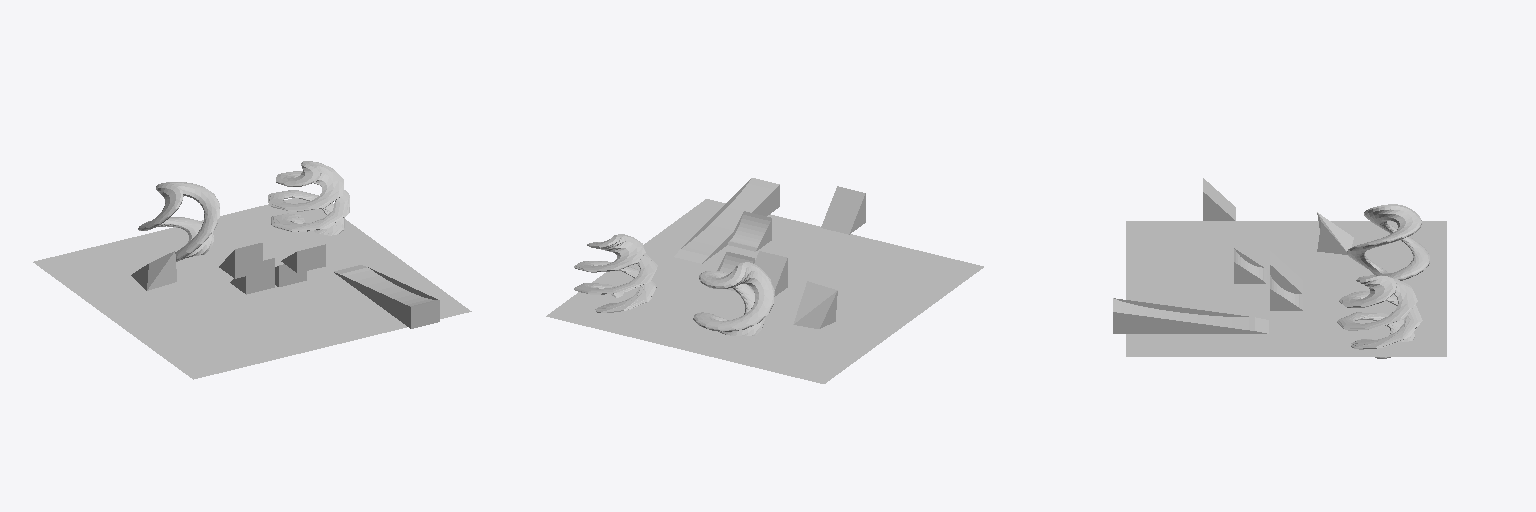
The model's file is RampPlayground.obj.
3 views of the same model, side by side, from view 1: azimuth 30°, elevation 25°; view 2: azimuth 150°, elevation 25°; view 3: azimuth 270°, elevation 25° (orthographic).
Parts seen in each view (by area): view 1: Plane, Torus.001, Cube.004, Torus, Cube.005, Cube.003, Cube, Cube.002; view 2: Plane, Torus.001, Torus, Cube.004, Cube.003, Cube.005, Cube.002, Cube; view 3: Plane, Cube.004, Torus.001, Torus, Cube.005, Cube.003, Cube.001, Cube.002, Cube.
Boxes of the visible parts, x1=… form: Plane: x1=33, y1=198, x2=471, y2=379; Torus.001: x1=268, y1=161, x2=349, y2=235; Cube.004: x1=334, y1=265, x2=439, y2=328; Torus: x1=138, y1=182, x2=219, y2=261; Cube.005: x1=131, y1=251, x2=176, y2=290; Cube.003: x1=219, y1=243, x2=262, y2=278; Cube: x1=230, y1=258, x2=274, y2=294; Cube.002: x1=281, y1=244, x2=325, y2=272; Plane: x1=546, y1=199, x2=983, y2=383; Torus.001: x1=574, y1=234, x2=657, y2=312; Torus: x1=693, y1=262, x2=774, y2=335; Cube.004: x1=674, y1=178, x2=779, y2=263; Cube.003: x1=821, y1=186, x2=865, y2=234; Cube.005: x1=793, y1=281, x2=837, y2=328; Cube.002: x1=728, y1=211, x2=771, y2=251; Cube: x1=748, y1=251, x2=787, y2=296; Plane: x1=1126, y1=221, x2=1446, y2=356; Cube.004: x1=1113, y1=298, x2=1268, y2=333; Torus.001: x1=1337, y1=275, x2=1422, y2=358; Torus: x1=1347, y1=204, x2=1429, y2=280; Cube.005: x1=1317, y1=212, x2=1353, y2=254; Cube.003: x1=1203, y1=178, x2=1235, y2=220; Cube.001: x1=1270, y1=275, x2=1302, y2=310; Cube.002: x1=1234, y1=248, x2=1266, y2=283; Cube: x1=1270, y1=251, x2=1302, y2=293.
Size of the model in its own units: 344 by 116 by 356.